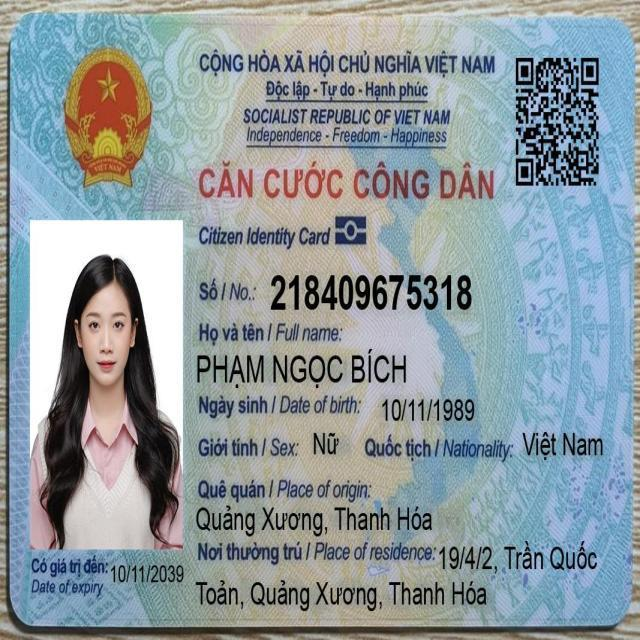current_place: (194, 577, 490, 616), (437, 538, 599, 577)
dob: (381, 396, 476, 425)
expire_date: (110, 561, 185, 586)
gender: (312, 428, 341, 460)
id: (268, 269, 476, 317)
name: (193, 344, 410, 390)
nationality: (520, 427, 606, 463)
origin_place: (195, 502, 435, 539)
